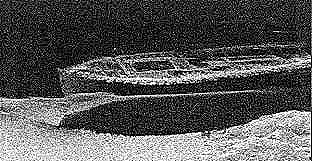ship: (55, 41, 312, 96)
